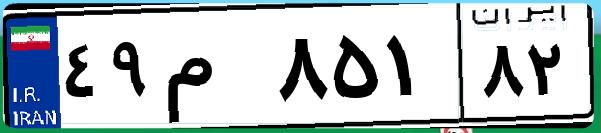1: (385, 28, 445, 110)
2: (525, 38, 570, 115)
4: (57, 26, 110, 100)
5: (330, 28, 385, 110)
8: (270, 28, 330, 110), (475, 38, 525, 113)
9: (110, 28, 158, 98)
م: (158, 20, 270, 120)
